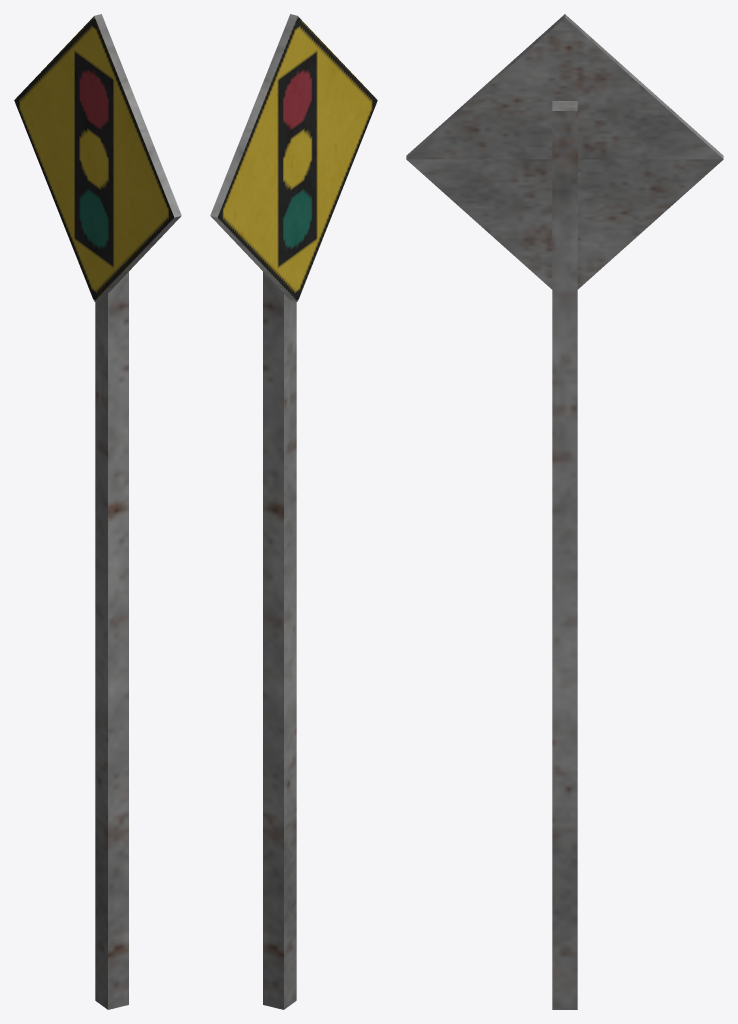
The model's file is Sign_TrafficLight.obj.
The picture shows the model from 3 angles, left to right: view 1: azimuth 30°, elevation 25°; view 2: azimuth 150°, elevation 25°; view 3: azimuth 270°, elevation 25°; orthographic projection.
Parts seen in each view (by area): view 1: Sign_TrafficLight; view 2: Sign_TrafficLight; view 3: Sign_TrafficLight.
Part boxes in pixels (x1,y1,x2,y2): Sign_TrafficLight: [14, 14, 181, 1009]; Sign_TrafficLight: [210, 14, 377, 1009]; Sign_TrafficLight: [406, 14, 723, 1009].
Size of the model in its own units: 0.0576 by 1.93 by 0.5665.
